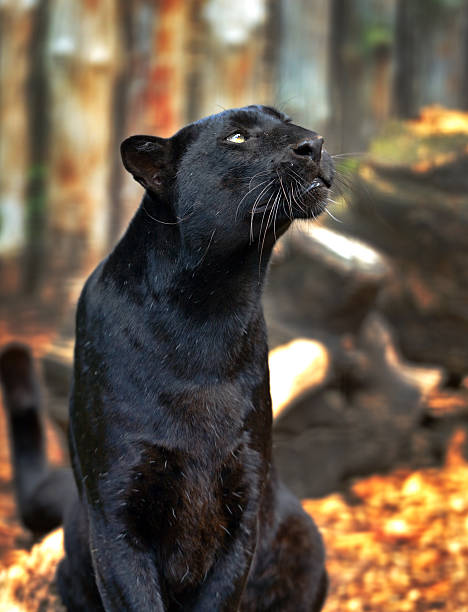panther: (103, 100, 358, 264)
